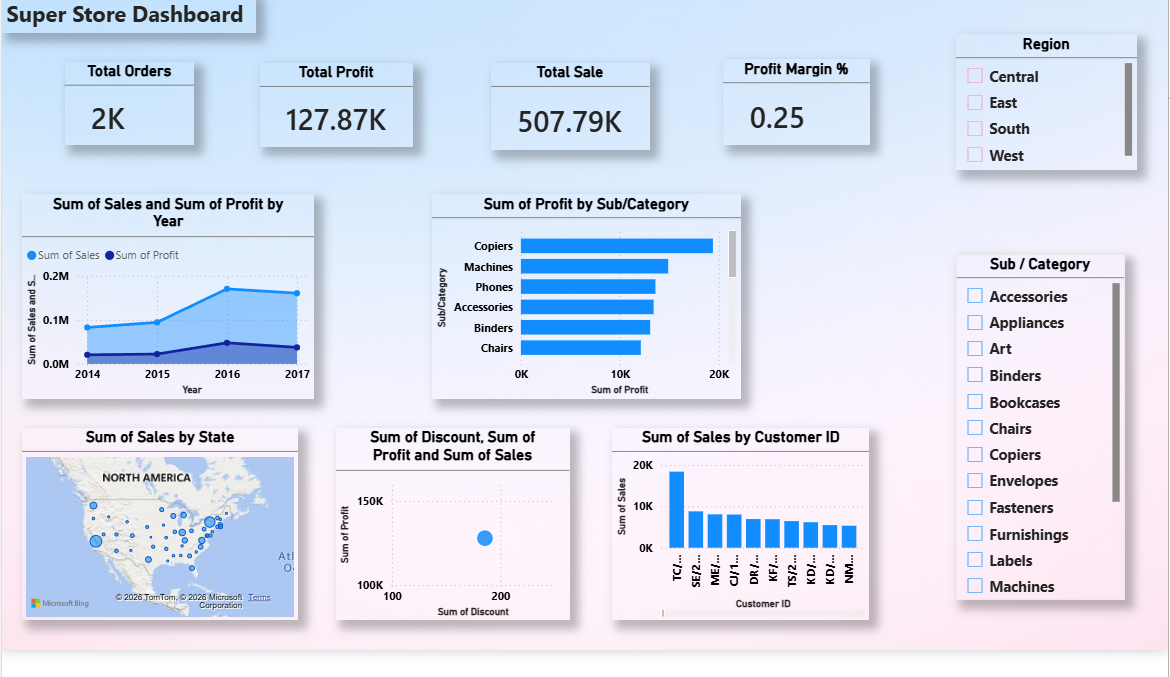

The dashboard page shown, as its layout file describes it:
{"tool":"powerbi","page":{"name":"Page 1","canvas":[1280,720],"ordinal":0},"visuals":[{"type":"cardVisual","title":"Total Orders","fields":{"Data":["Sample - Superstore.Total Orders"]},"box":[68.6,74.1,142.7,91.9],"z":0},{"type":"cardVisual","title":"Total Profit","fields":{"Data":["Sample - Superstore.Total Profit"]},"box":[282.7,75.5,168.8,91.9],"z":1000},{"type":"cardVisual","title":"Total Sale","fields":{"Data":["Sample - Superstore.Total Sales"]},"box":[536.5,75.5,174.3,96.1],"z":2000},{"type":"cardVisual","title":"Profit Margin %","fields":{"Data":["Sample - Superstore.Profit Margin %"]},"box":[791.8,71.4,160.5,94.7],"z":3000},{"type":"lineChart","fields":{"Category":["Sample - Superstore.Order Date.Variation.Date Hierarchy.Year","Sample - Superstore.Order Date.Variation.Date Hierarchy.Month"],"Y":["Sum(Sample - Superstore.Sales)","Sum(Sample - Superstore.Profit)"]},"box":[22,219.6,321.1,225],"z":4000},{"type":"barChart","fields":{"Category":["Sample - Superstore.Sub/Category"],"Y":["Sum(Sample - Superstore.Profit)"]},"box":[472,219.6,338.9,225],"z":5000},{"type":"map","fields":{"Category":["Sample - Superstore.State","Sample - Superstore.Region"],"Size":["Sum(Sample - Superstore.Sales)"]},"box":[22,476.2,303.3,211.3],"z":6000},{"type":"scatterChart","fields":{"X":["Sum(Sample - Superstore.Discount)"],"Size":["Sum(Sample - Superstore.Sales)"],"Y":["Sum(Sample - Superstore.Profit)"]},"box":[366.4,476.2,256.6,211.3],"z":6001},{"type":"columnChart","fields":{"Category":["Sample - Superstore.Customer ID"],"Y":["Sum(Sample - Superstore.Sales)"]},"box":[669.6,476.2,282.7,211.3],"z":6002},{"type":"slicer","title":"Sub / Category","fields":{"Values":["Sample - Superstore.Sub/Category"]},"box":[1047,285.4,185.2,380.1],"z":6003},{"type":"slicer","title":"Region","fields":{"Values":["Sample - Superstore.Region"]},"box":[1047,43.9,199,149.6],"z":6004},{"type":"textbox","box":[0,0,278.6,42.5],"z":6005}]}

Visuals, with their boxes in screenshot pixels (x1, y1, x2, y2), scaled from the page's 1280x720 canvas onto the 1170x677 screenshot:
"Total Orders" cardVisual: 63, 70, 193, 156
"Total Profit" cardVisual: 258, 71, 413, 157
"Total Sale" cardVisual: 490, 71, 650, 161
"Profit Margin %" cardVisual: 724, 67, 870, 156
lineChart - Sample - Superstore.Order Date.Variation.Date Hierarchy.Year x Sample - Superstore.Order Date.Variation.Date Hierarchy.Month: 20, 206, 314, 418
barChart - Sample - Superstore.Sub/Category x Sum(Sample - Superstore.Profit): 431, 206, 741, 418
map - Sample - Superstore.State x Sample - Superstore.Region: 20, 448, 297, 646
scatterChart - Sum(Sample - Superstore.Discount) x Sum(Sample - Superstore.Sales): 335, 448, 569, 646
columnChart - Sample - Superstore.Customer ID x Sum(Sample - Superstore.Sales): 612, 448, 870, 646
"Sub / Category" slicer: 957, 268, 1126, 626
"Region" slicer: 957, 41, 1139, 182
textbox: 0, 0, 255, 40
